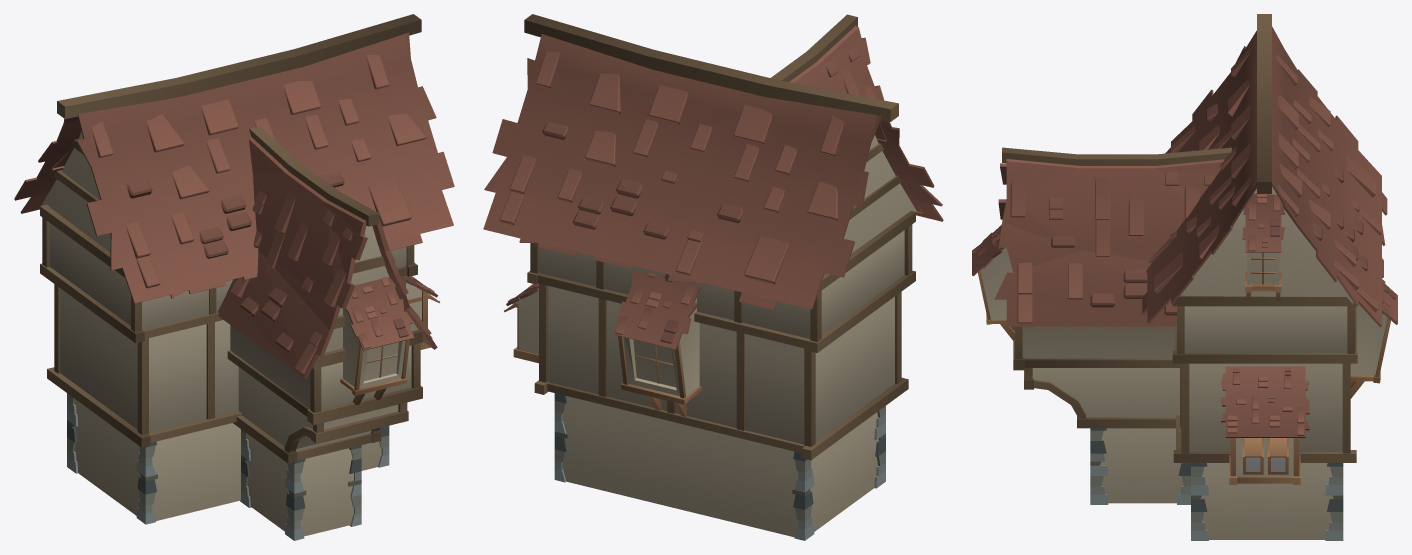
Rendered from ZLP_Build_B_6.FBX.
3 renders of one model, left to right at view 1: azimuth 30°, elevation 25°; view 2: azimuth 150°, elevation 25°; view 3: azimuth 270°, elevation 25°, orthographic. The views are drawn at different scales.
Visible parts, largest first — view 1: ZLP_Build_B_6; view 2: ZLP_Build_B_6; view 3: ZLP_Build_B_6.
Part boxes in pixels (x1=…): ZLP_Build_B_6: x1=14, y1=14, x2=454, y2=540; ZLP_Build_B_6: x1=483, y1=14, x2=943, y2=540; ZLP_Build_B_6: x1=972, y1=14, x2=1397, y2=540.
Size of the model in its own units: 965 by 1014 by 998.
